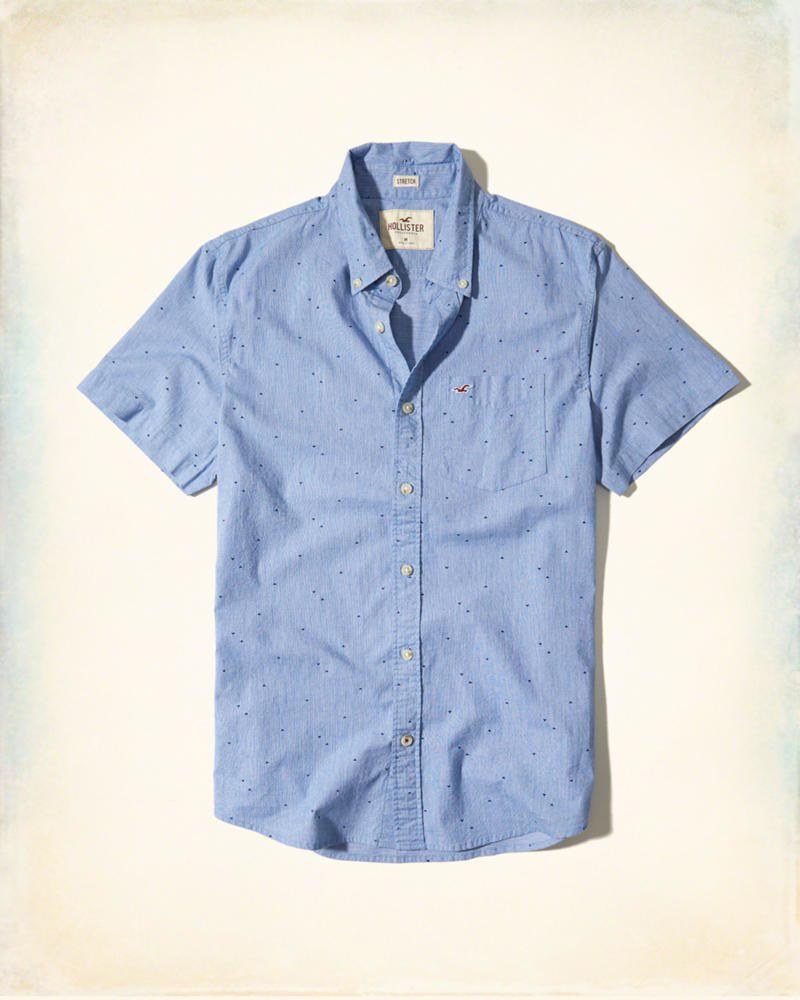teeshirt: (83, 136, 749, 901)
